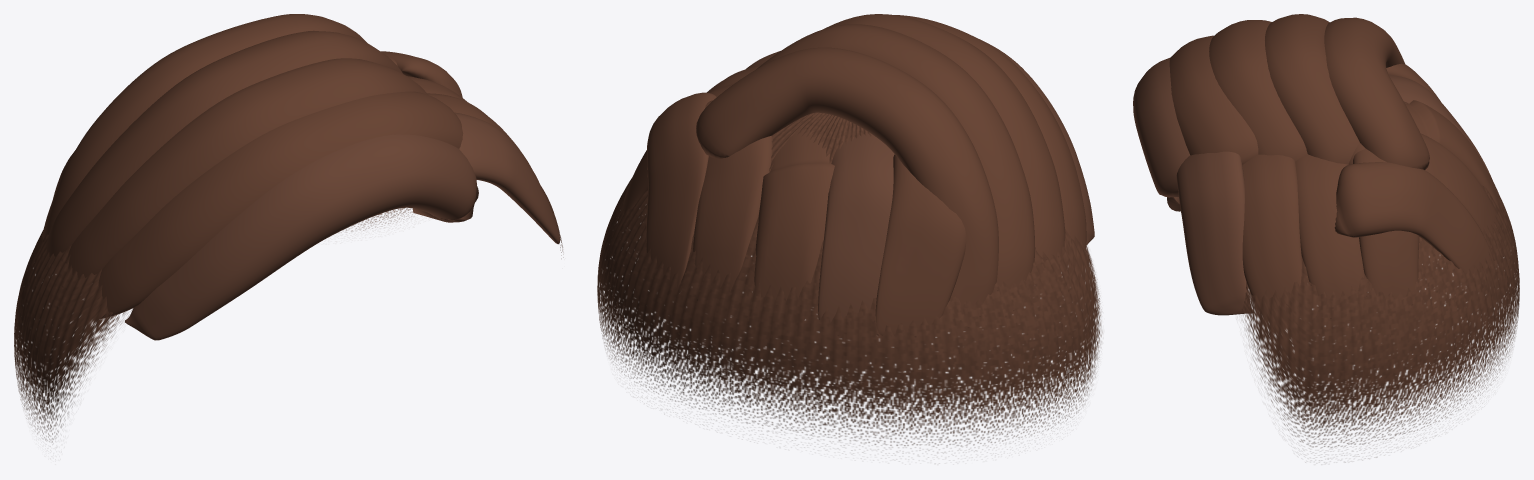
File: Selected-B-taper-baseline256.glb
3 renders of one model, left to right at view 1: azimuth 30°, elevation 25°; view 2: azimuth 150°, elevation 25°; view 3: azimuth 270°, elevation 25°, orthographic. The views are drawn at different scales.
Parts seen in each view (by area): view 1: 226 hair / Hair252 / sculpted locks, 226 hair / Hair252 / gentle tonal variation, 226 hair / Hair256 / selected B sides; view 2: 226 hair / Hair252 / sculpted locks, 226 hair / Hair256 / selected B sides, 226 hair / Hair252 / gentle tonal variation; view 3: 226 hair / Hair252 / sculpted locks, 226 hair / Hair256 / selected B sides, 226 hair / Hair252 / gentle tonal variation.
Part boxes in pixels (x1,y1,x2,y2): 226 hair / Hair252 / sculpted locks: [41, 14, 542, 318]; 226 hair / Hair252 / gentle tonal variation: [125, 112, 560, 340]; 226 hair / Hair256 / selected B sides: [14, 186, 563, 442]; 226 hair / Hair252 / sculpted locks: [622, 14, 1086, 337]; 226 hair / Hair256 / selected B sides: [597, 112, 1102, 452]; 226 hair / Hair252 / gentle tonal variation: [746, 39, 1094, 335]; 226 hair / Hair252 / sculpted locks: [1169, 14, 1503, 320]; 226 hair / Hair256 / selected B sides: [1240, 101, 1519, 462]; 226 hair / Hair252 / gentle tonal variation: [1133, 58, 1492, 315].
Bounding box in the file's own units: 0.9774 × 0.6944 × 0.746.
3 materials, 1 textured.
